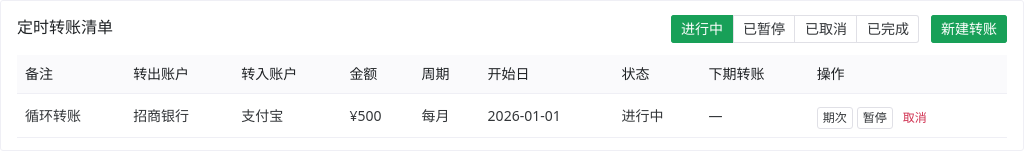
Test: TransfersPane 清单渲染冒烟（编排用例见 useScheduledPlanList.test.ts） › 状态过滤按钮接线：completed 行经「已完成」过滤可见
expect the text "一次性转账" is not shown: met
Click the button with test id "filter-completed" at (888,29), box top-left (857, 15), bottom-right (919, 43)
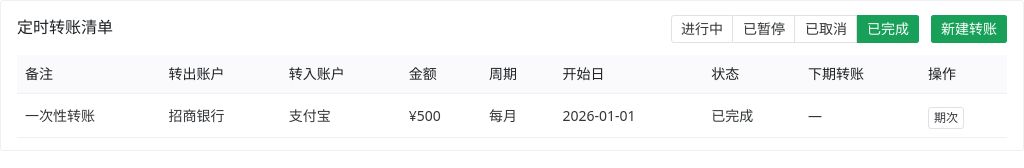
expect the text "一次性转账" is shown: met, box top-left (17, 94), bottom-right (160, 138)
expect the text "循环转账" is gone: met
